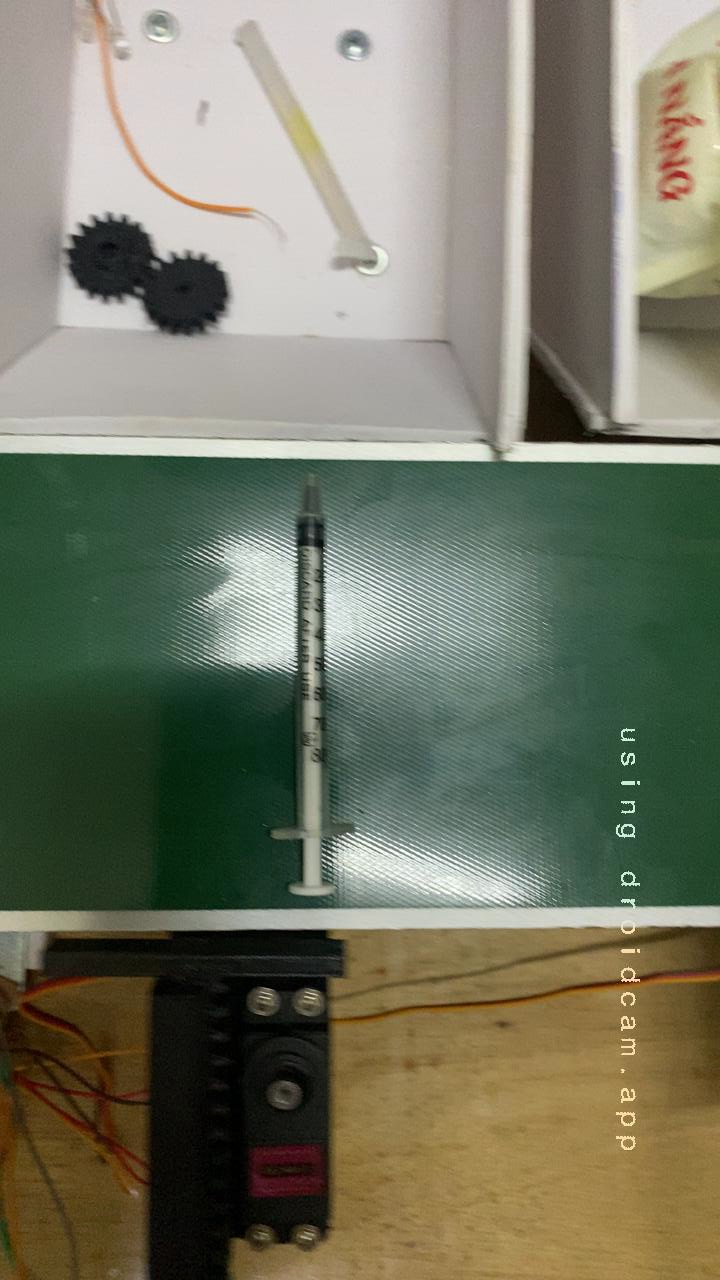syringe: (242, 499, 362, 897)
